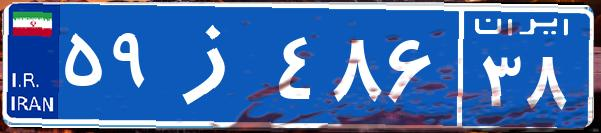3: (475, 38, 525, 113)
4: (273, 28, 330, 110)
5: (57, 26, 110, 107)
6: (385, 28, 445, 110)
8: (330, 28, 385, 110), (525, 38, 570, 115)
9: (110, 28, 158, 105)
ز: (158, 15, 273, 115)
